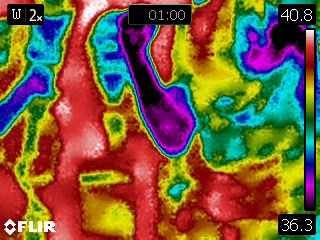human: (117, 1, 320, 240)
